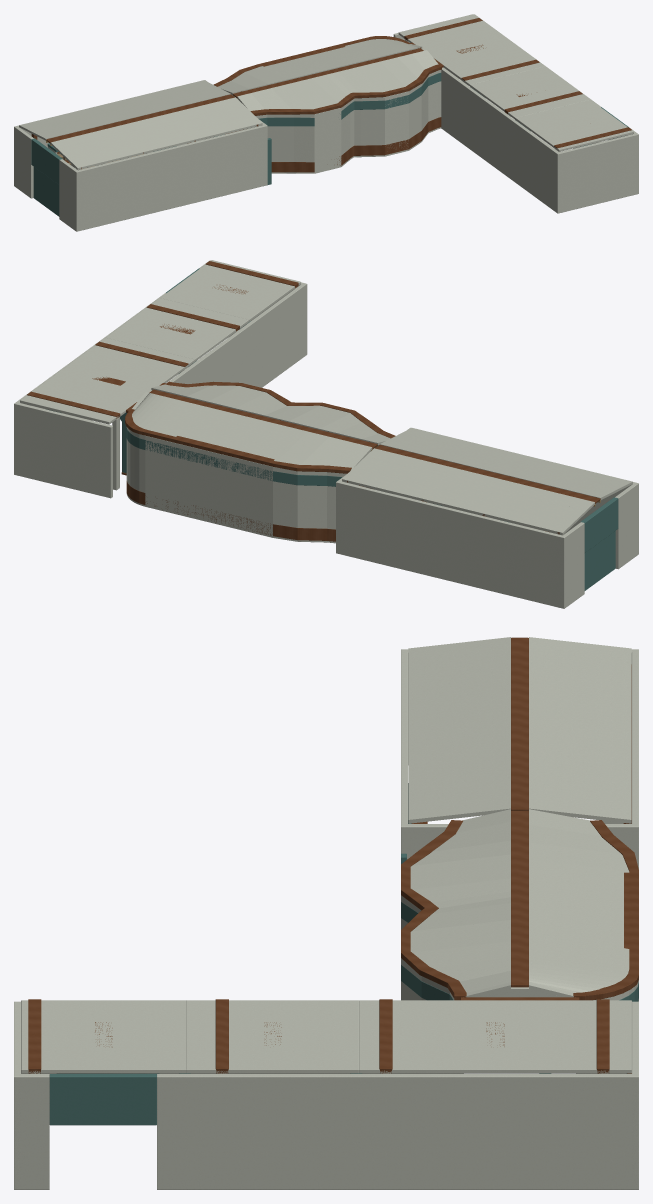
Rendered from D05_forward_welcome_architecture_006.glb.
3 renders of one model, top to bottom at view 1: azimuth 30°, elevation 25°; view 2: azimuth 150°, elevation 25°; view 3: azimuth 270°, elevation 25°, orthographic. The views are drawn at different scales.
Visible parts, largest first — view 1: SUPPORT_south_wall, WAIT_south_sculpted_enclosure, ADMISSION_inner_protected_partition, ADMISSION_ceiling_panel_2, ADMISSION_south_end, ADMISSION_ceiling_panel_0, ADMISSION_ceiling_panel_1, SUPPORT_vault_facet_0, SUPPORT_vault_facet_1, WAIT_fitted_vault_north_3, SUPPORT_vault_facet_2, WAIT_south_warm_dado (+25 smaller); view 2: SUPPORT_north_wall, WAIT_north_sculpted_enclosure, ADMISSION_north_end, ADMISSION_ceiling_panel_2, ADMISSION_inner_protected_partition, WAIT_fitted_vault_north_3, ADMISSION_ceiling_panel_1, ADMISSION_ceiling_panel_0, SUPPORT_vault_facet_6, SUPPORT_vault_facet_5, SUPPORT_vault_facet_4, SUPPORT_vault_facet_0 (+20 smaller); view 3: ADMISSION_outer_aft, ADMISSION_ceiling_panel_2, ADMISSION_ceiling_panel_1, ADMISSION_ceiling_panel_0, WAIT_fitted_vault_north_3, SUPPORT_vault_facet_0, SUPPORT_vault_facet_1, SUPPORT_vault_facet_6, SUPPORT_vault_facet_5, ADMISSION_core_interface_head, SUPPORT_vault_facet_2, SUPPORT_vault_facet_4 (+26 smaller).
Part boxes in pixels (bbox=[...]): SUPPORT_south_wall: bbox=[74, 125, 264, 231]; WAIT_south_sculpted_enclosure: bbox=[255, 70, 441, 173]; ADMISSION_inner_protected_partition: bbox=[441, 67, 560, 213]; ADMISSION_ceiling_panel_2: bbox=[398, 14, 544, 86]; ADMISSION_south_end: bbox=[556, 133, 638, 212]; ADMISSION_ceiling_panel_0: bbox=[515, 100, 633, 151]; ADMISSION_ceiling_panel_1: bbox=[470, 66, 589, 119]; SUPPORT_vault_facet_0: bbox=[68, 114, 262, 169]; SUPPORT_vault_facet_1: bbox=[58, 104, 252, 160]; WAIT_fitted_vault_north_3: bbox=[261, 40, 393, 80]; SUPPORT_vault_facet_2: bbox=[50, 97, 242, 150]; WAIT_south_warm_dado: bbox=[271, 117, 441, 172]; SUPPORT_north_wall: bbox=[338, 481, 566, 608]; WAIT_north_sculpted_enclosure: bbox=[126, 427, 346, 543]; ADMISSION_north_end: bbox=[14, 403, 112, 498]; ADMISSION_ceiling_panel_2: bbox=[20, 337, 194, 424]; ADMISSION_inner_protected_partition: bbox=[166, 283, 307, 387]; WAIT_fitted_vault_north_3: bbox=[149, 400, 306, 461]; ADMISSION_ceiling_panel_1: bbox=[106, 298, 248, 361]; ADMISSION_ceiling_panel_0: bbox=[160, 260, 300, 321]; SUPPORT_vault_facet_6: bbox=[342, 468, 574, 535]; SUPPORT_vault_facet_5: bbox=[354, 457, 585, 523]; SUPPORT_vault_facet_4: bbox=[365, 448, 594, 512]; SUPPORT_vault_facet_0: bbox=[401, 428, 632, 489]; ADMISSION_outer_aft: bbox=[157, 1074, 638, 1189]; ADMISSION_ceiling_panel_2: bbox=[359, 1000, 631, 1073]; ADMISSION_ceiling_panel_1: bbox=[186, 1000, 359, 1073]; ADMISSION_ceiling_panel_0: bbox=[21, 1000, 186, 1073]; WAIT_fitted_vault_north_3: bbox=[529, 859, 629, 969]; SUPPORT_vault_facet_0: bbox=[408, 644, 445, 823]; SUPPORT_vault_facet_1: bbox=[445, 640, 482, 819]; SUPPORT_vault_facet_6: bbox=[594, 644, 631, 823]; SUPPORT_vault_facet_5: bbox=[557, 640, 594, 819]; ADMISSION_core_interface_head: bbox=[49, 1074, 156, 1125]; SUPPORT_vault_facet_2: bbox=[482, 637, 510, 815]; SUPPORT_vault_facet_4: bbox=[529, 637, 556, 814].
Size of the model in its own units: 34 by 4.8 by 21.
Materials: 9 (7 with a texture image).
